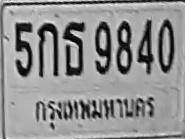0: (158, 18, 174, 73)
4: (137, 19, 153, 74)
5: (14, 22, 32, 77)
8: (116, 20, 132, 74)
9: (94, 21, 111, 74)
A01: (37, 22, 58, 77)
A24: (62, 21, 86, 75)
BKK: (31, 95, 156, 129)
